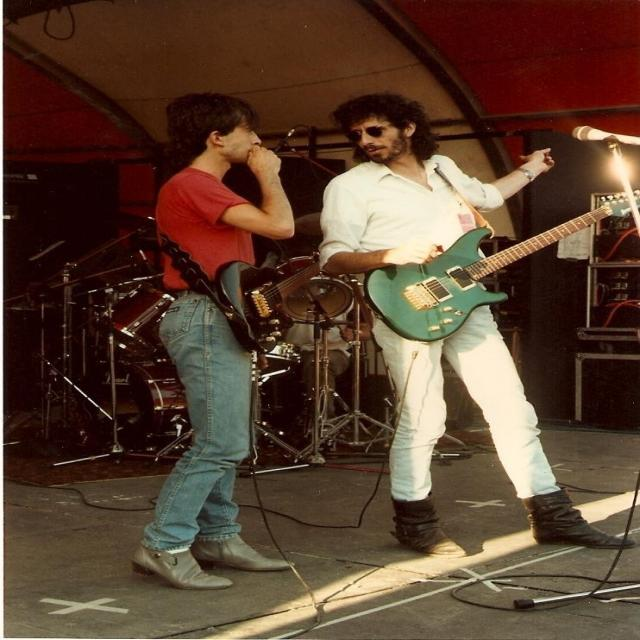drums: (0, 273, 344, 461)
guitar: (362, 186, 640, 344), (210, 247, 346, 354)
